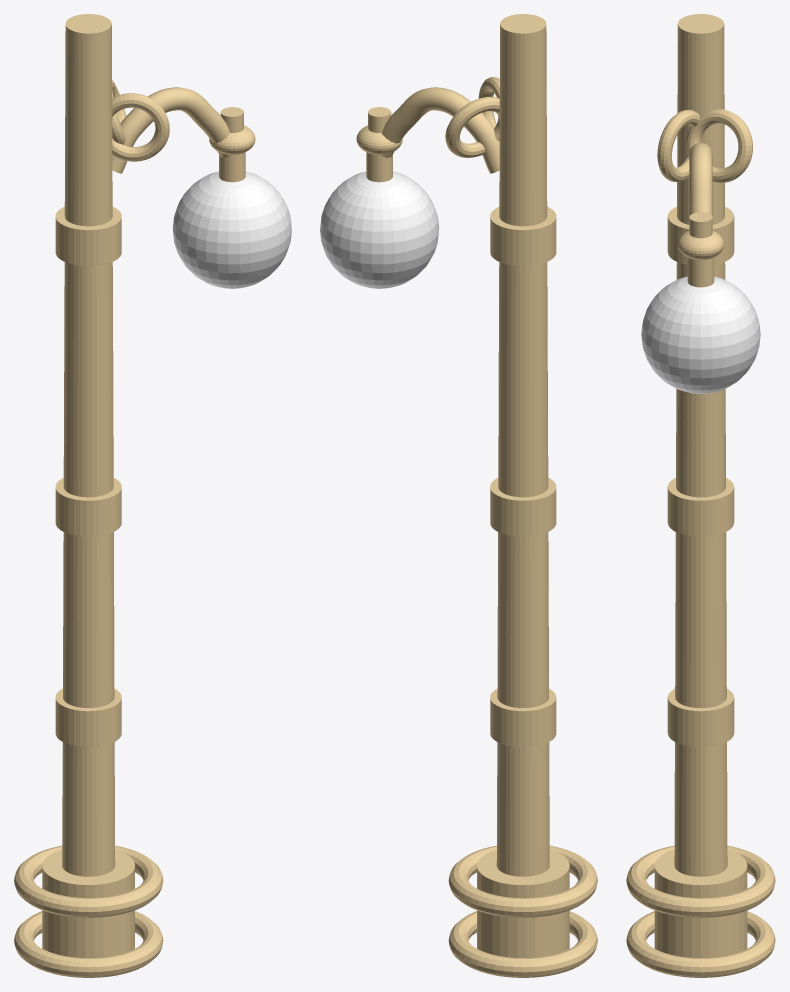
3 renders of one model, left to right at view 1: azimuth 30°, elevation 25°; view 2: azimuth 150°, elevation 25°; view 3: azimuth 270°, elevation 25°, orthographic.
Parts seen in each view (by area): view 1: MainPole, AmberGlassGlobe, Base, Torus.001, Torus, DecorativeArm, Cylinder.002, Cylinder.001, Cylinder, Torus.003, Sphere, Cylinder.003; view 2: MainPole, AmberGlassGlobe, Base, Torus.001, Torus, DecorativeArm, Cylinder.002, Cylinder.001, Cylinder, Torus.002, Sphere, Cylinder.003; view 3: MainPole, AmberGlassGlobe, Base, Torus.001, Torus, Cylinder.001, Cylinder, Torus.002, DecorativeArm, Cylinder.002, Torus.003, Sphere (+2 smaller).
Boxes of the visible parts, x1=… form: MainPole: x1=62, y1=14, x2=115, y2=876; AmberGlassGlobe: x1=172, y1=171, x2=291, y2=288; Base: x1=42, y1=849, x2=134, y2=957; Torus.001: x1=14, y1=845, x2=163, y2=917; Torus: x1=14, y1=911, x2=163, y2=977; DecorativeArm: x1=112, y1=87, x2=230, y2=173; Cylinder.002: x1=55, y1=207, x2=121, y2=266; Cylinder.001: x1=55, y1=478, x2=121, y2=536; Cylinder: x1=55, y1=688, x2=121, y2=747; Torus.003: x1=112, y1=93, x2=169, y2=161; Sphere: x1=209, y1=125, x2=255, y2=154; Cylinder.003: x1=219, y1=152, x2=245, y2=182; MainPole: x1=496, y1=14, x2=549, y2=876; AmberGlassGlobe: x1=320, y1=171, x2=439, y2=288; Base: x1=477, y1=849, x2=569, y2=957; Torus.001: x1=448, y1=845, x2=597, y2=917; Torus: x1=448, y1=911, x2=597, y2=977; DecorativeArm: x1=381, y1=87, x2=499, y2=173; Cylinder.002: x1=490, y1=207, x2=556, y2=266; Cylinder.001: x1=490, y1=478, x2=556, y2=536; Cylinder: x1=490, y1=688, x2=556, y2=747; Torus.002: x1=445, y1=96, x2=499, y2=157; Sphere: x1=356, y1=125, x2=402, y2=154; Cylinder.003: x1=366, y1=152, x2=392, y2=182; MainPole: x1=674, y1=14, x2=727, y2=876; AmberGlassGlobe: x1=641, y1=276, x2=760, y2=393; Base: x1=654, y1=849, x2=747, y2=957; Torus.001: x1=626, y1=845, x2=775, y2=917; Torus: x1=626, y1=911, x2=775, y2=977; Cylinder.001: x1=667, y1=478, x2=734, y2=536; Cylinder: x1=667, y1=689, x2=734, y2=747; Torus.002: x1=686, y1=109, x2=752, y2=182; DecorativeArm: x1=689, y1=142, x2=712, y2=216; Cylinder.002: x1=667, y1=207, x2=734, y2=264; Torus.003: x1=657, y1=110, x2=699, y2=181; Sphere: x1=677, y1=231, x2=724, y2=259.
Size of the model in its own units: 0.905 by 3.1 by 0.45.
